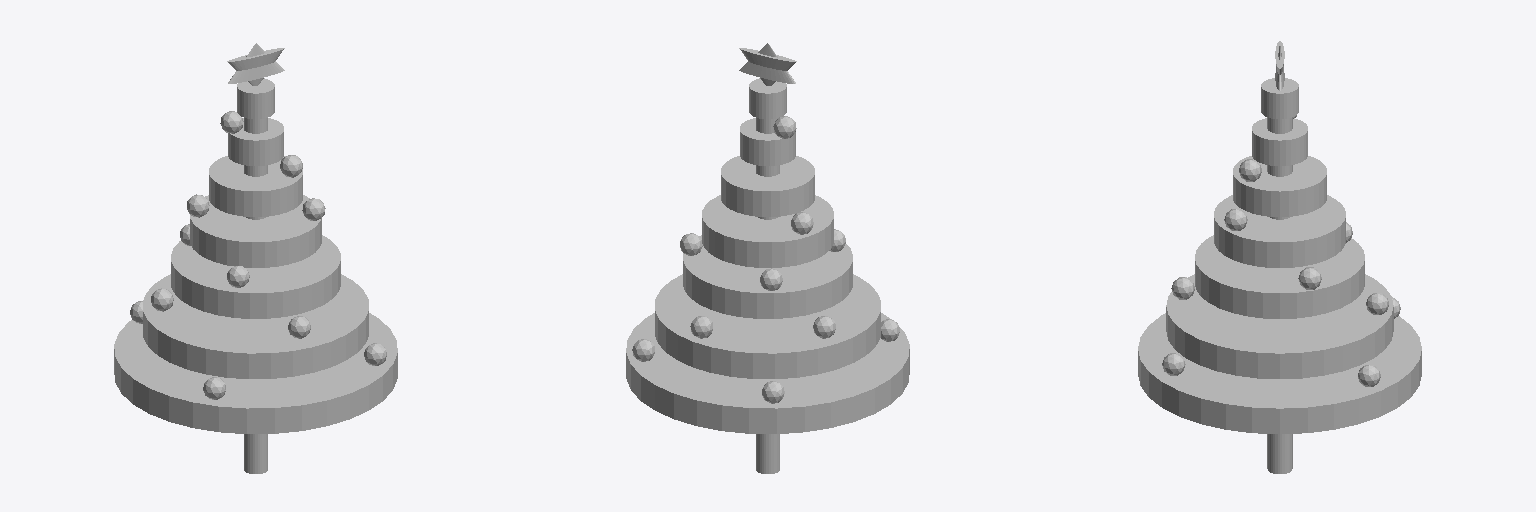
File: xmastree.obj
The picture shows the model from 3 angles: view 1: azimuth 30°, elevation 25°; view 2: azimuth 150°, elevation 25°; view 3: azimuth 270°, elevation 25°; orthographic projection.
Visible parts, largest first — view 1: Cylinder.001, Cylinder.002, Cylinder.003, Cylinder.004, Cylinder.005_Cylinder.004, Cylinder.006_Cylinder.005, Cylinder, Cylinder.007_Cylinder.006, Cone, Cone.001; view 2: Cylinder.001, Cylinder.002, Cylinder.003, Cylinder.004, Cylinder.005_Cylinder.004, Cylinder.006_Cylinder.005, Cylinder, Cylinder.007_Cylinder.006, Cone, Cone.001; view 3: Cylinder.001, Cylinder.002, Cylinder.003, Cylinder.004, Cylinder.005_Cylinder.004, Cylinder.006_Cylinder.005, Cylinder, Cylinder.007_Cylinder.006.
Part boxes in pixels (x1,y1,x2,y2): Cylinder.001: (114, 313, 397, 433); Cylinder.002: (143, 274, 368, 378); Cylinder.003: (171, 235, 340, 318); Cylinder.004: (190, 195, 321, 267); Cylinder.005_Cylinder.004: (209, 156, 302, 216); Cylinder.006_Cylinder.005: (228, 118, 283, 165); Cylinder: (244, 118, 267, 473); Cylinder.007_Cylinder.006: (237, 78, 274, 118); Cone: (228, 43, 284, 83); Cone.001: (227, 48, 284, 85); Cylinder.001: (626, 313, 909, 433); Cylinder.002: (655, 274, 880, 378); Cylinder.003: (683, 235, 852, 318); Cylinder.004: (702, 195, 833, 267); Cylinder.005_Cylinder.004: (721, 156, 814, 216); Cylinder.006_Cylinder.005: (740, 118, 795, 165); Cylinder: (756, 118, 779, 473); Cylinder.007_Cylinder.006: (749, 78, 786, 118); Cone: (739, 43, 795, 83); Cone.001: (739, 48, 796, 85); Cylinder.001: (1138, 313, 1421, 433); Cylinder.002: (1166, 274, 1393, 378); Cylinder.003: (1195, 235, 1364, 318); Cylinder.004: (1214, 195, 1345, 267); Cylinder.005_Cylinder.004: (1233, 156, 1326, 216); Cylinder.006_Cylinder.005: (1252, 118, 1307, 165); Cylinder: (1267, 117, 1292, 473); Cylinder.007_Cylinder.006: (1261, 78, 1298, 118).
Bounding box in the file's own units: 6 × 9.93 × 6.